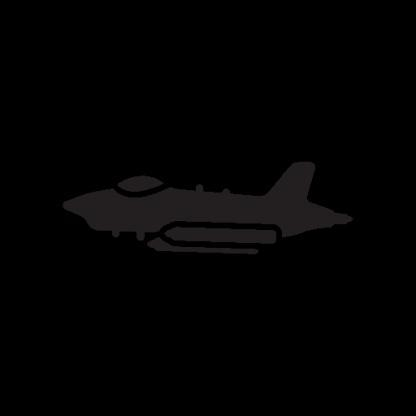CIV_Plane: (54, 161, 354, 266)
